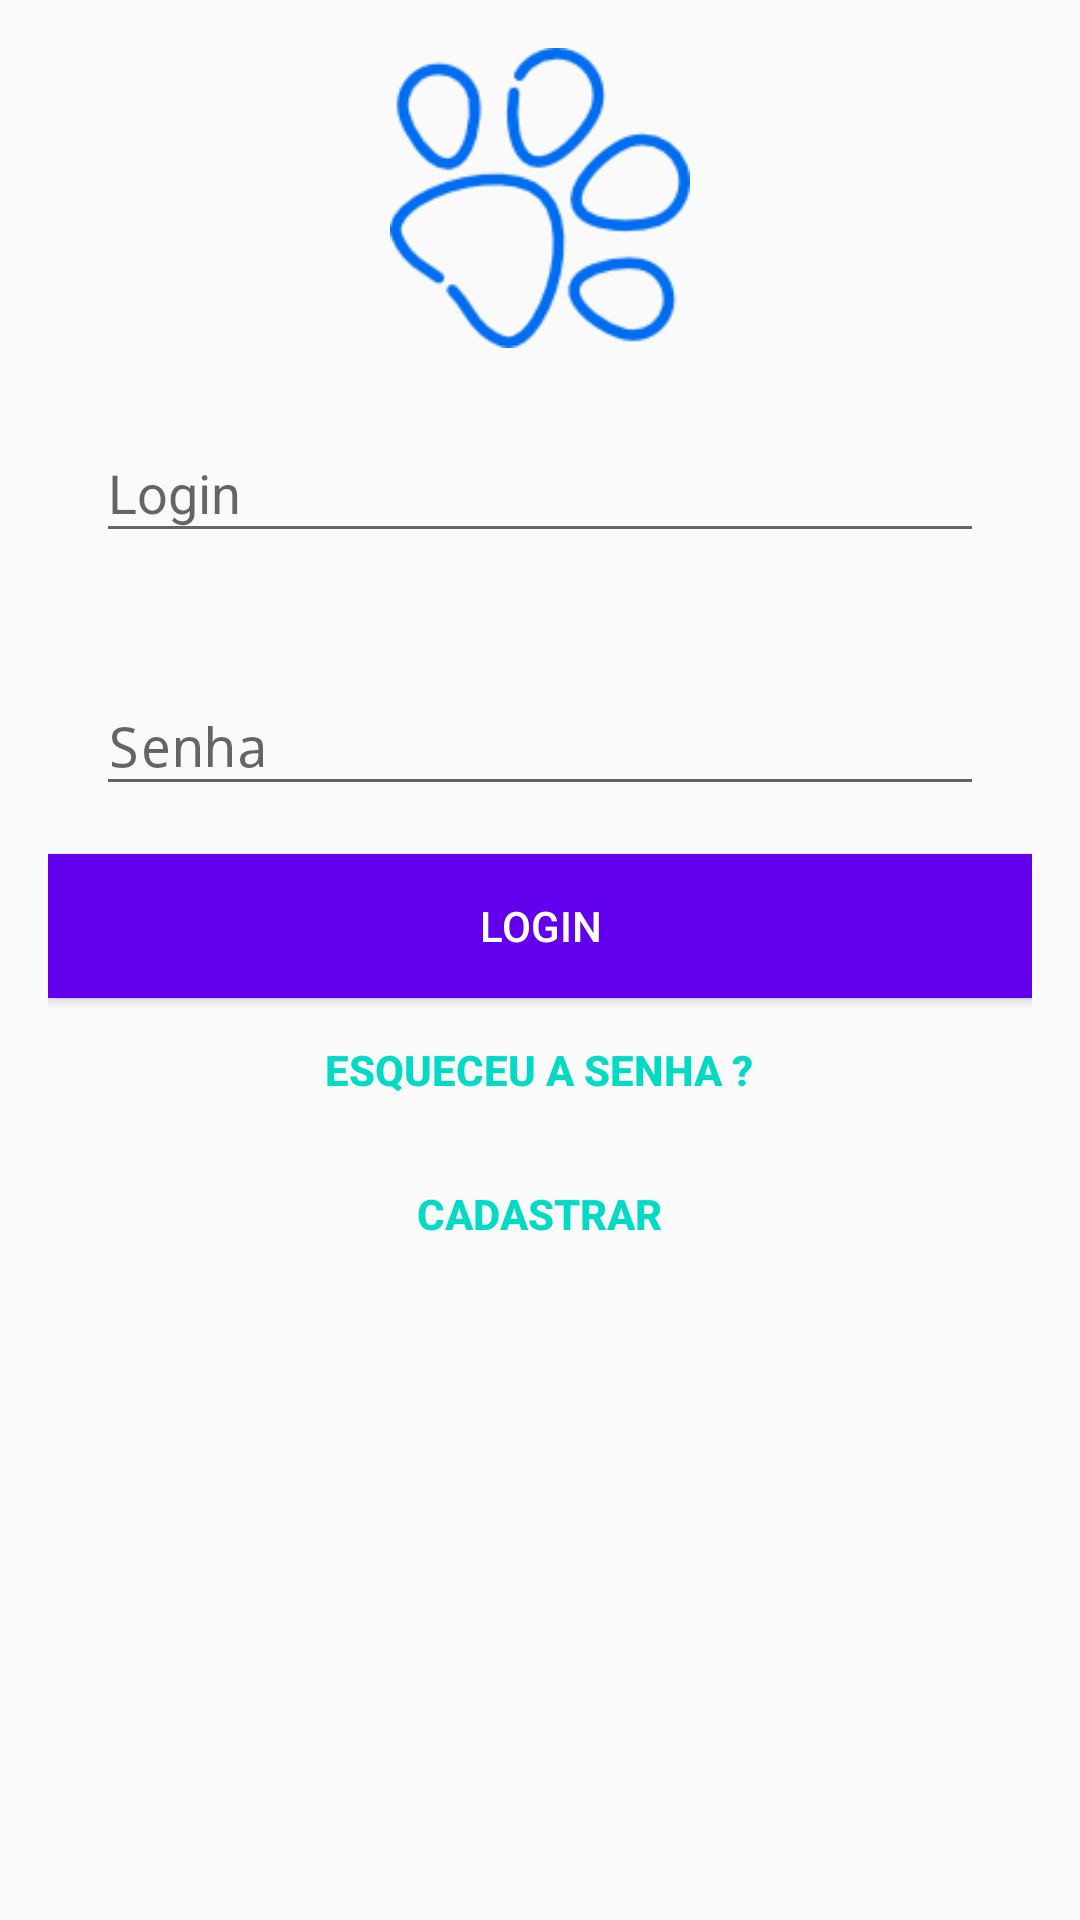

Icons on this 1080 × 1920 Android screen, each with its box as (x1, y1, x2, y2):
pawprint: (390, 48, 690, 348)
